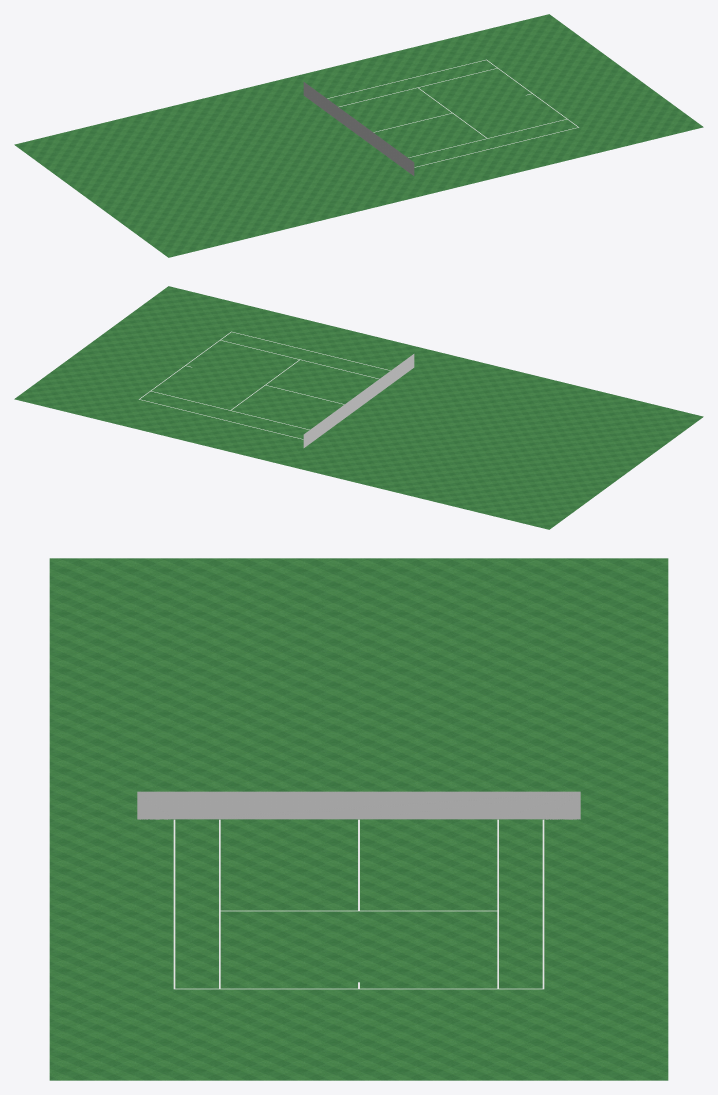
Rendered from tennis_scene.FBX.
3 renders of one model, top to bottom at view 1: azimuth 30°, elevation 25°; view 2: azimuth 150°, elevation 25°; view 3: azimuth 270°, elevation 25°, orthographic. The views are drawn at different scales.
Visible parts, largest first — view 1: Layer0_001; view 2: Layer0_001; view 3: Layer0_001.
Part boxes in pixels (x1=…): Layer0_001: x1=14, y1=14, x2=703, y2=257; Layer0_001: x1=14, y1=286, x2=703, y2=529; Layer0_001: x1=49, y1=558, x2=668, y2=1080.
Bounding box in the file's own units: 3657 × 91 × 1829.
5 materials, 3 textured.
